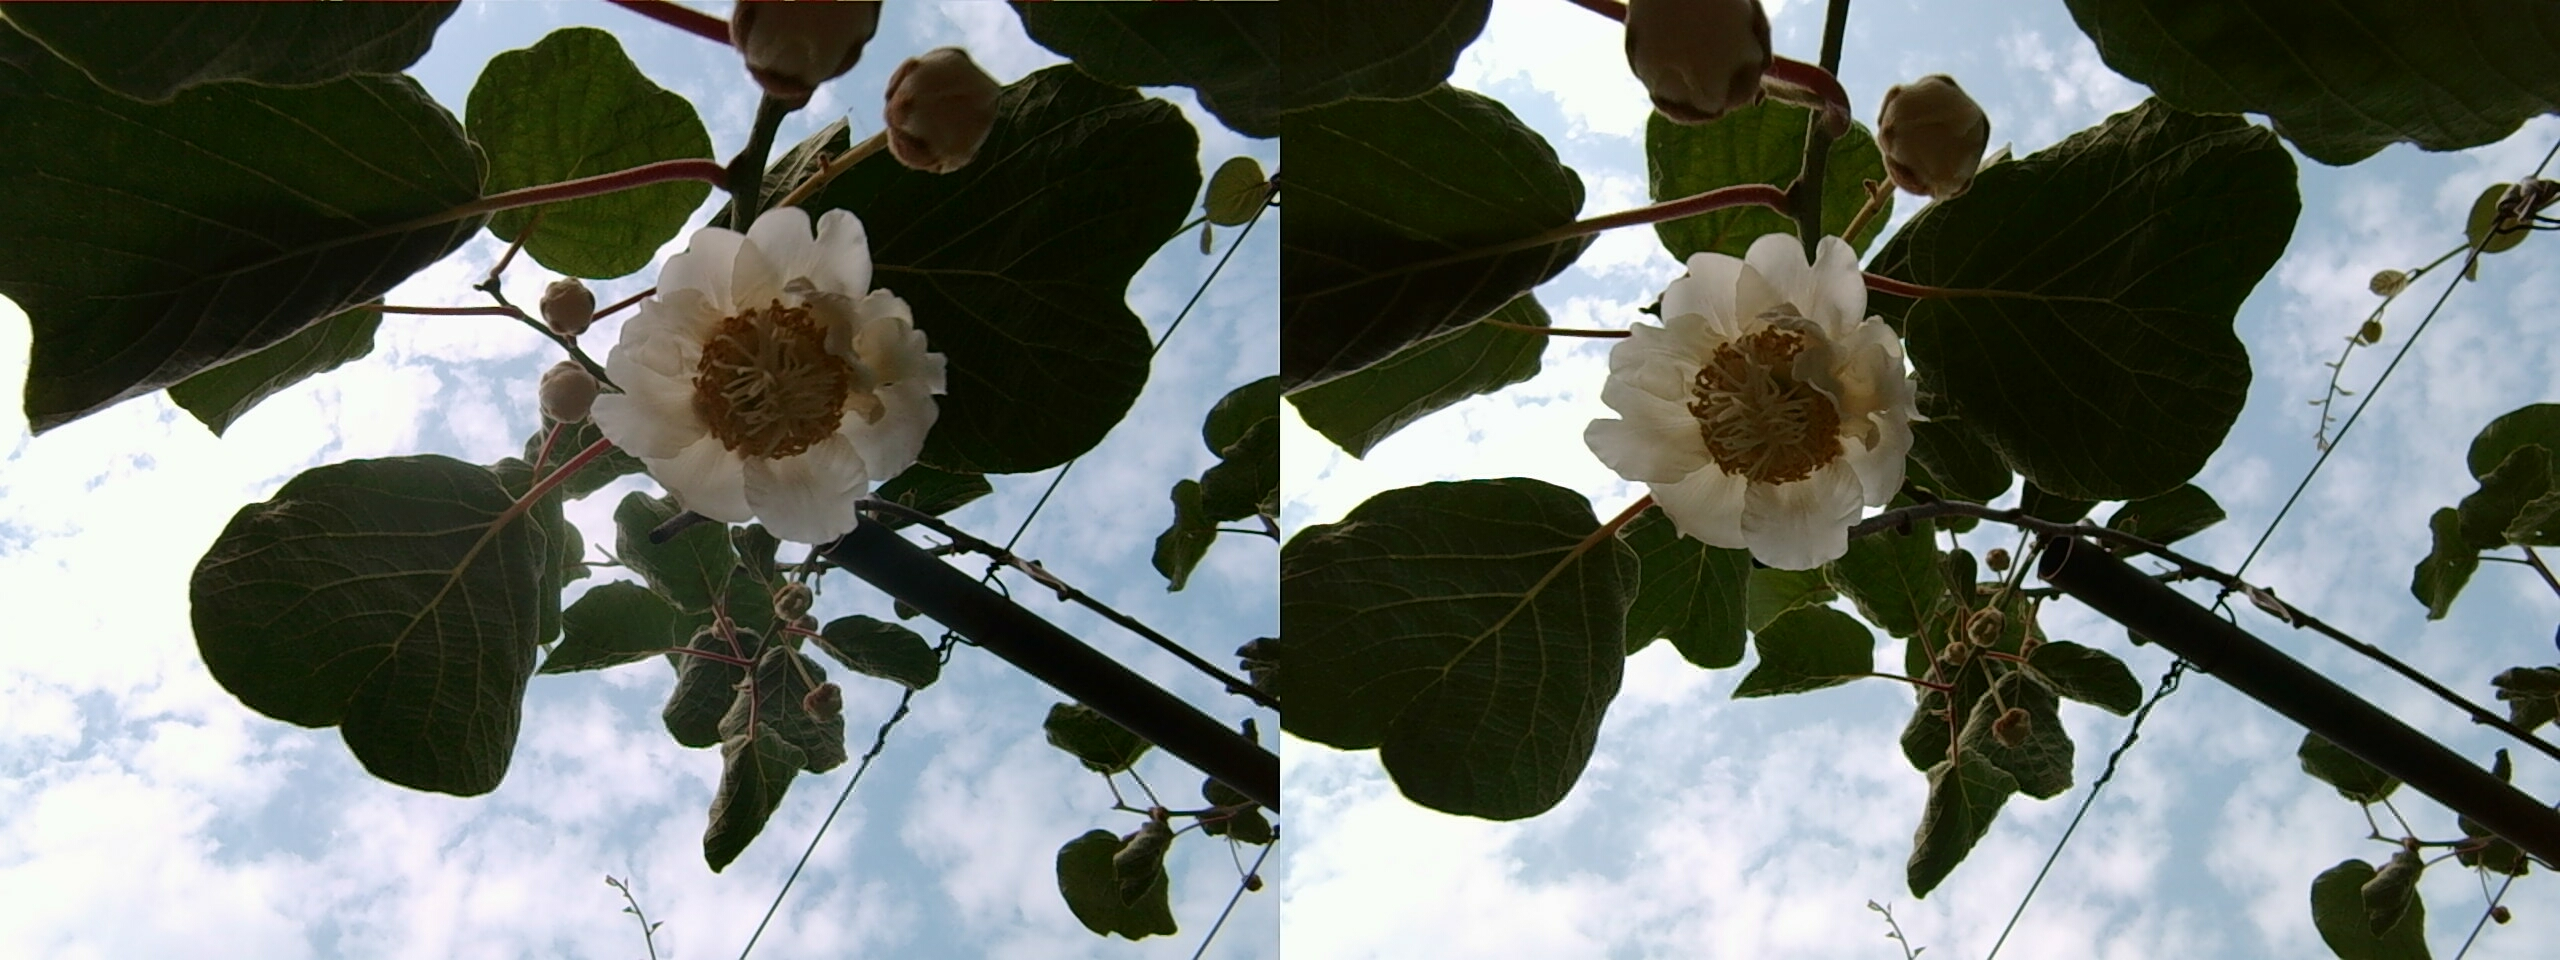flower: (611, 211, 924, 540), (1610, 238, 1910, 560)
